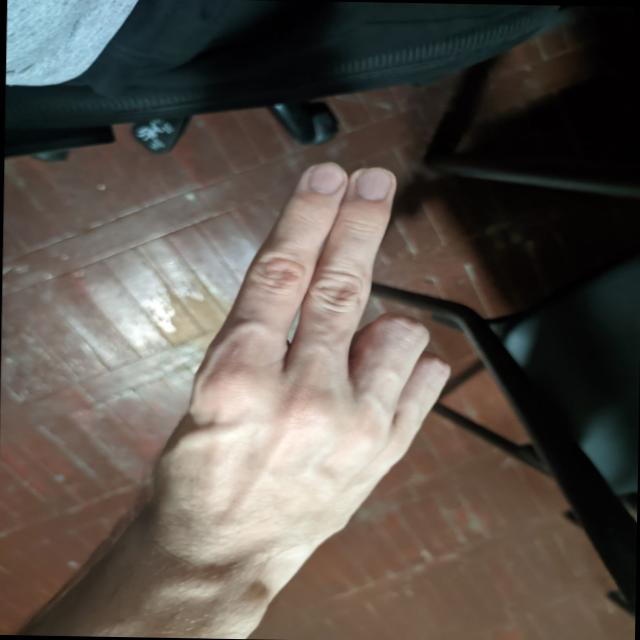p: (153, 142, 502, 560)
